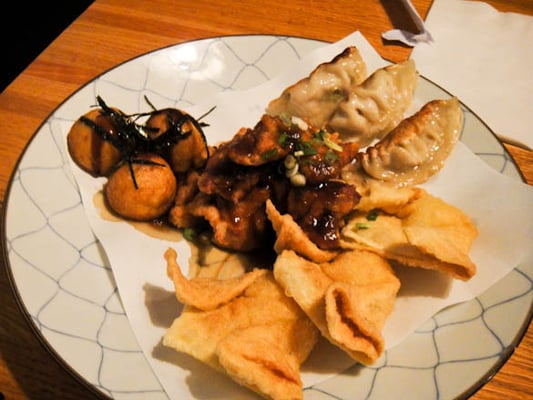sandwich: (378, 0, 433, 44)
